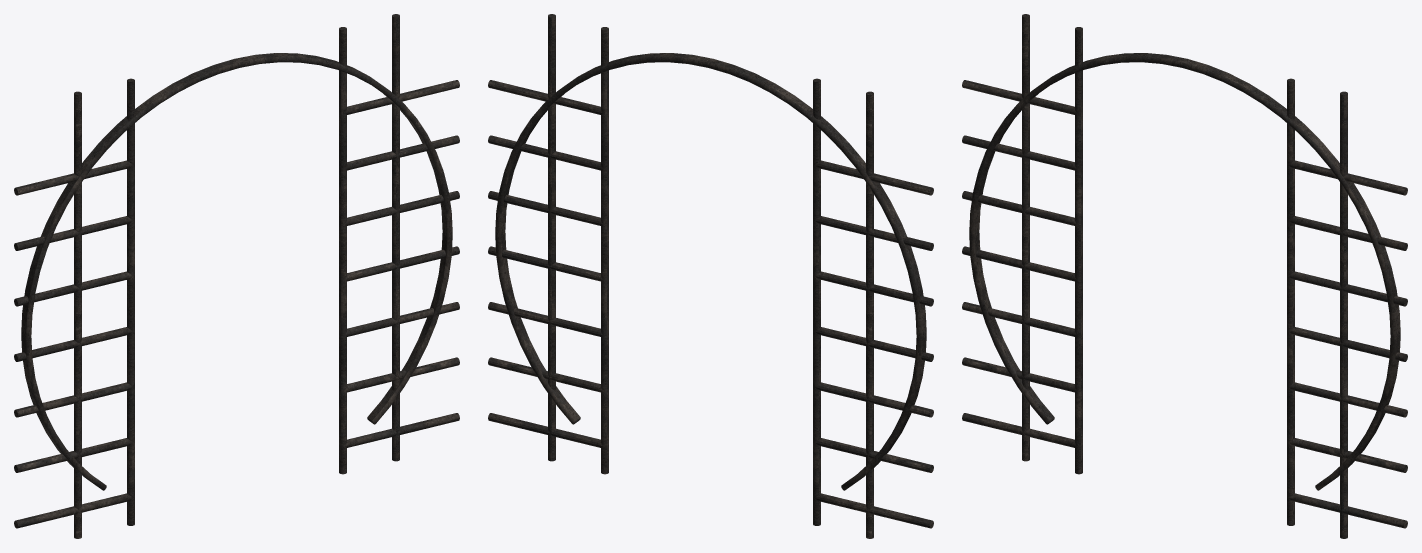
File: bars_metal_1.glb
3 views of the same model, side by side, from view 1: azimuth 30°, elevation 25°; view 2: azimuth 150°, elevation 25°; view 3: azimuth 330°, elevation 25° (orthographic).
Visible parts, largest first — view 1: bars_metal_1; view 2: bars_metal_1; view 3: bars_metal_1.
Part boxes in pixels (<box>): bars_metal_1: <box>14,14,459,538</box>; bars_metal_1: <box>488,14,933,538</box>; bars_metal_1: <box>962,14,1407,538</box>.
Bounding box in the file's own units: 2.5 × 2.4 × 0.06.
Materials: 1 (1 with a texture image).
